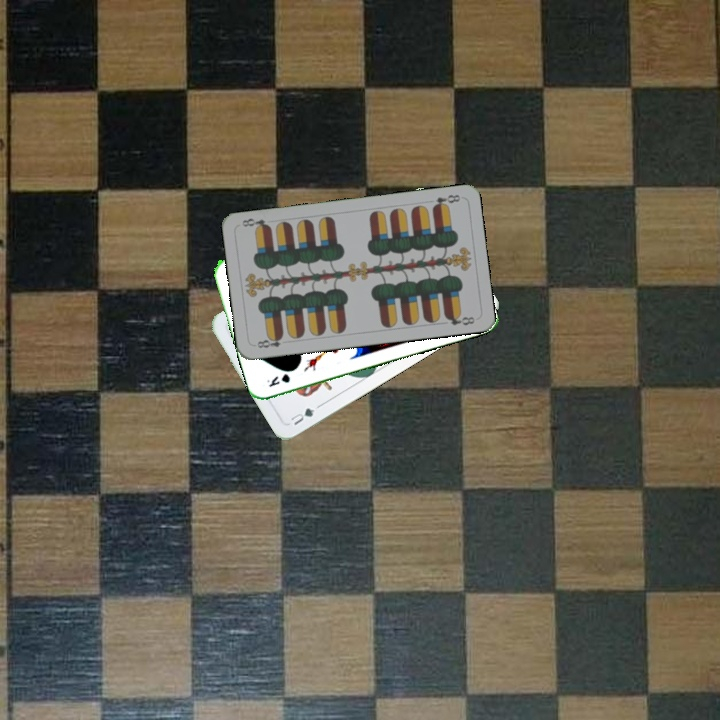E8: (428, 190, 463, 211), (253, 332, 286, 350)
GK: (263, 370, 293, 390)
GU: (286, 404, 317, 428)
